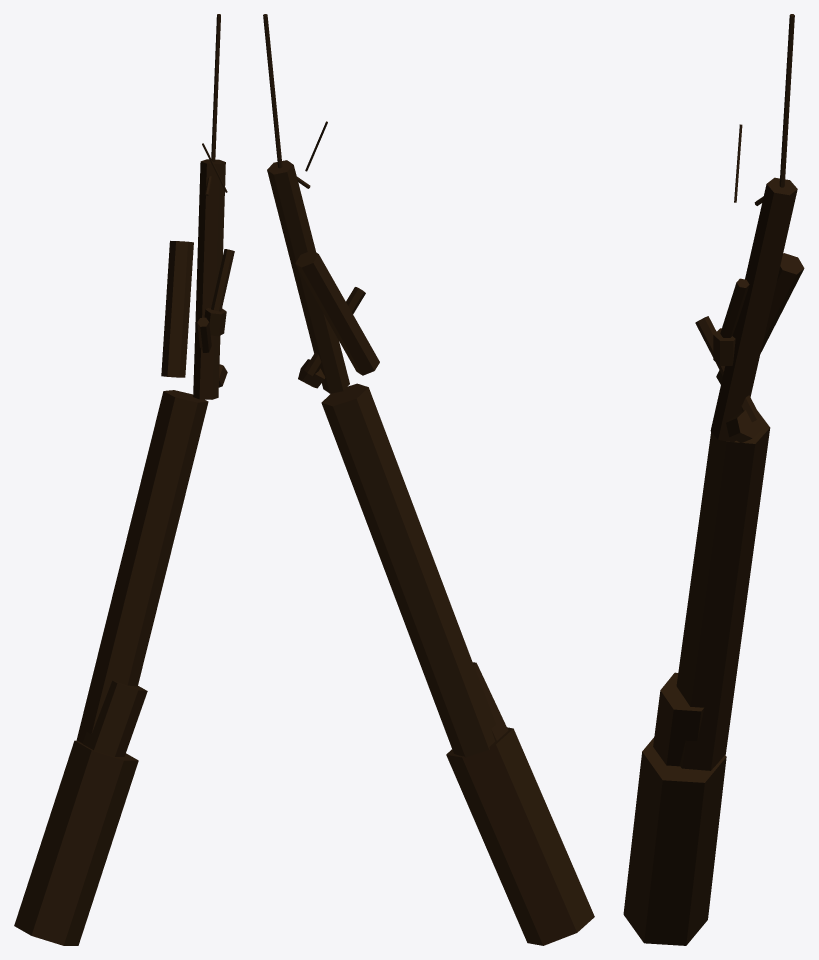
The model's file is tree_547_no_leaf.obj.
The picture shows the model from 3 angles, left to right: view 1: azimuth 30°, elevation 25°; view 2: azimuth 150°, elevation 25°; view 3: azimuth 270°, elevation 25°; orthographic projection. The views are drawn at different scales.
Parts seen in each view (by area): view 1: TrunkAndBranches; view 2: TrunkAndBranches; view 3: TrunkAndBranches.
Part boxes in pixels (x1,y1,x2,y2): TrunkAndBranches: [14, 14, 234, 945]; TrunkAndBranches: [263, 14, 594, 945]; TrunkAndBranches: [623, 14, 804, 945].
Size of the model in its own units: 0.3411 by 1.1 by 0.172.
